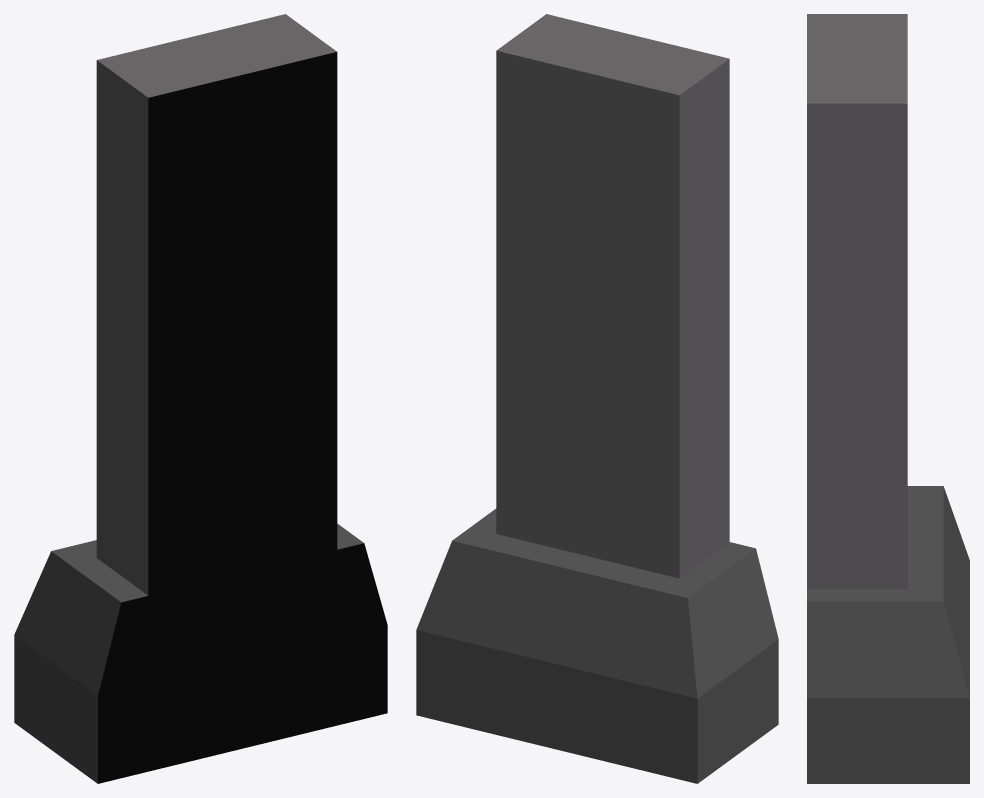
Rendered from Pillar_Half_Base.fbx.
3 renders of one model, left to right at view 1: azimuth 30°, elevation 25°; view 2: azimuth 150°, elevation 25°; view 3: azimuth 270°, elevation 25°, orthographic. The views are drawn at different scales.
Visible parts, largest first — view 1: Pillar_Half_Base; view 2: Pillar_Half_Base; view 3: Pillar_Half_Base.
Part boxes in pixels (<box>): Pillar_Half_Base: <box>14,14,387,783</box>; Pillar_Half_Base: <box>416,14,778,783</box>; Pillar_Half_Base: <box>807,14,969,783</box>.
Size of the model in its own units: 69 by 153 by 34.5.
